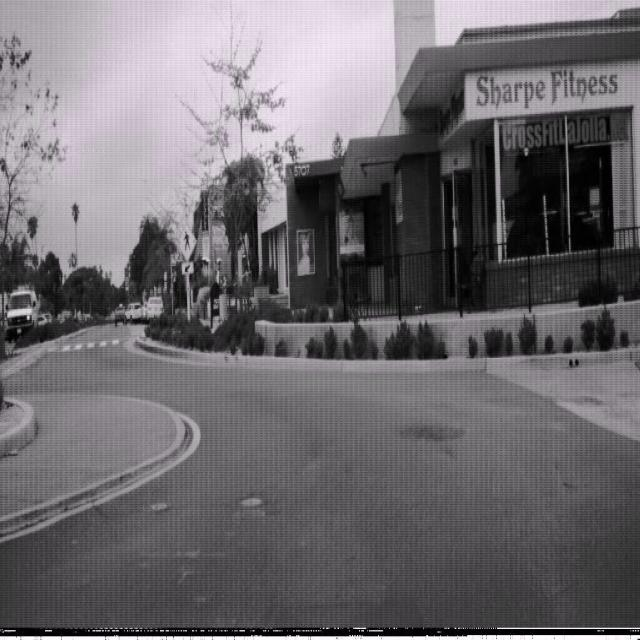pedestrianCrossing: (175, 221, 198, 262)
